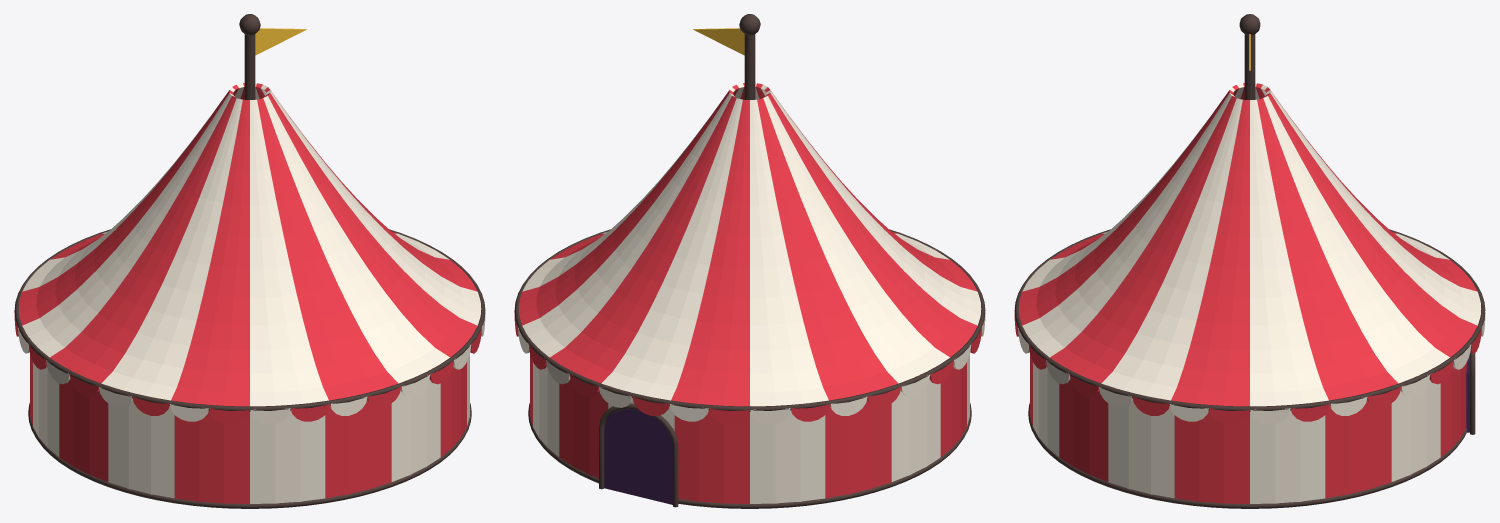
File: PumpBigTop.obj
3 views of the same model, side by side, from view 1: azimuth 30°, elevation 25°; view 2: azimuth 150°, elevation 25°; view 3: azimuth 270°, elevation 25° (orthographic).
Visible parts, largest first — view 1: TentA, TentB, Trim, Flag; view 2: TentA, TentB, Trim, Door, Flag; view 3: TentA, TentB, Trim.
Part boxes in pixels (x1,y1,x2,y2): TentA: (14,83,485,503); TentB: (14,83,485,503); Trim: (14,14,485,508); Flag: (255,28,306,55); TentA: (514,83,985,503); TentB: (514,83,985,503); Trim: (514,14,985,508); Door: (604,409,672,504); Flag: (693,28,744,55); TentA: (1014,83,1485,503); TentB: (1014,83,1485,503); Trim: (1014,14,1485,508).
Size of the model in its own units: 30.26 by 28.42 by 30.26.
